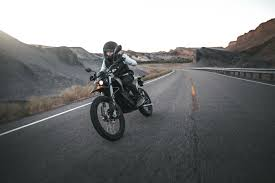motorcycle: (80, 65, 157, 141)
